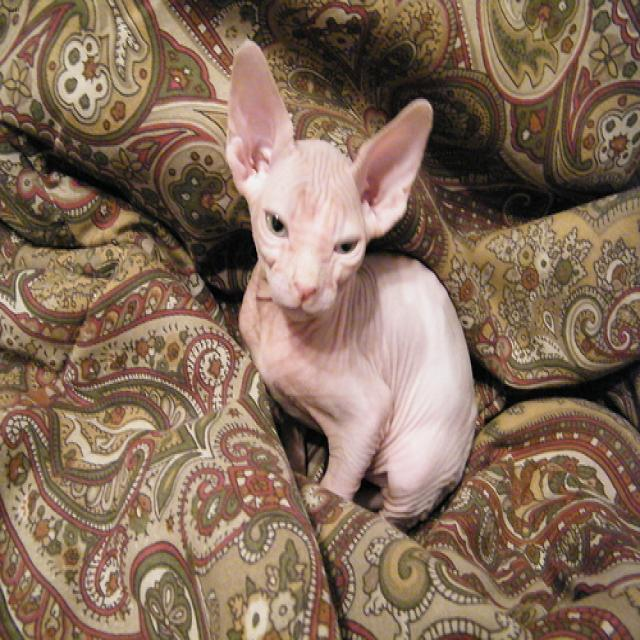Sphynx: (223, 38, 431, 319)
